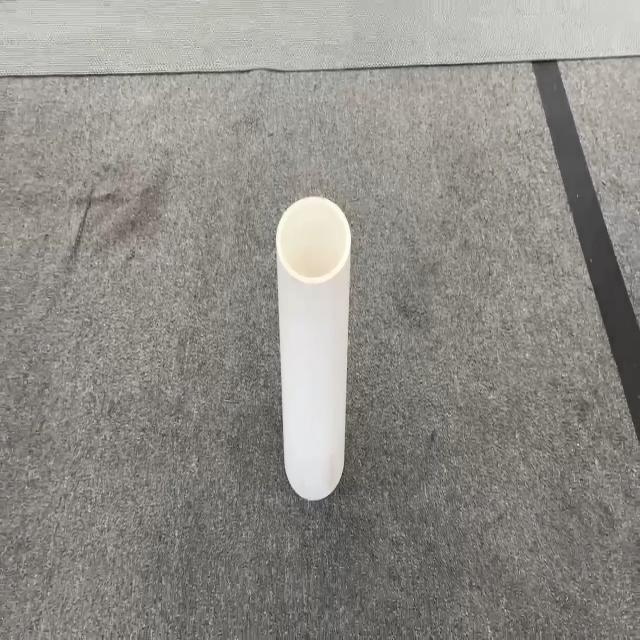coral: (274, 194, 352, 500)
